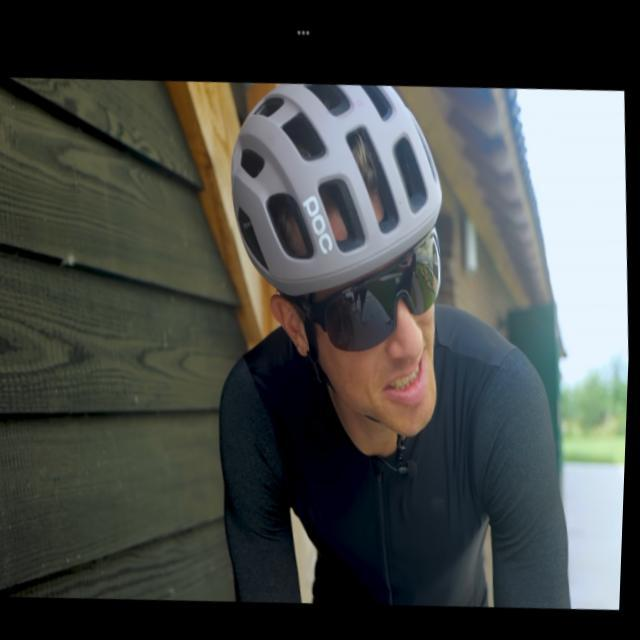Helmet: (204, 80, 456, 451)
